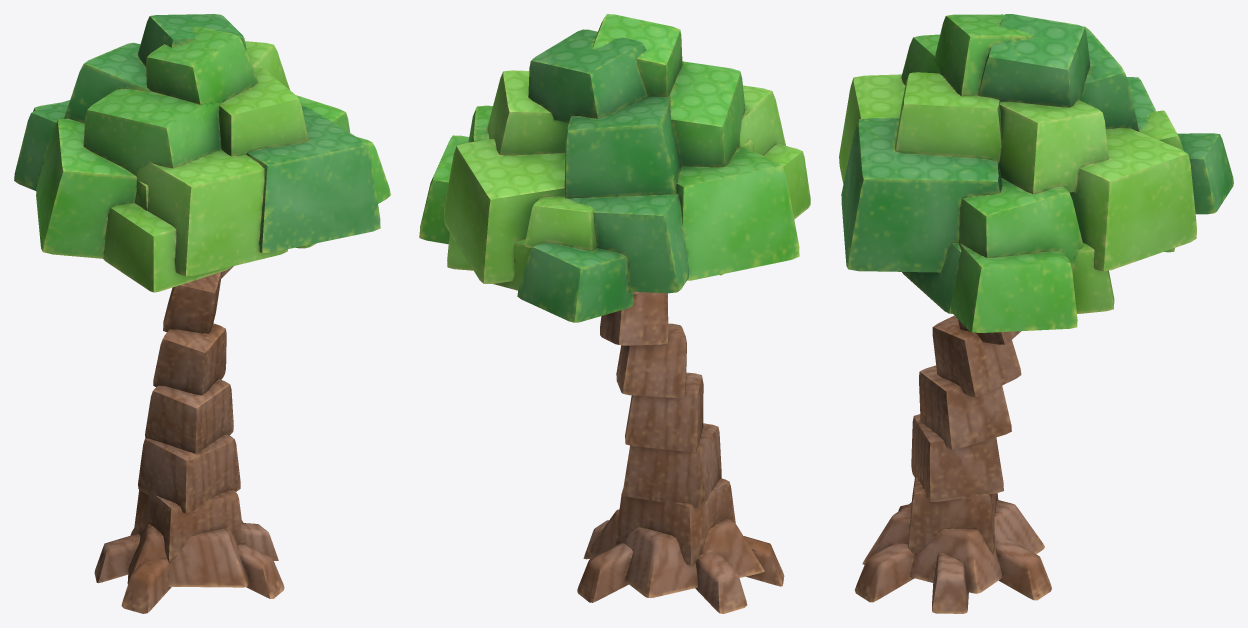
The model's file is ArbreMajestueux_A.fbx.
3 views of the same model, side by side, from view 1: azimuth 30°, elevation 25°; view 2: azimuth 150°, elevation 25°; view 3: azimuth 270°, elevation 25° (orthographic). The views are drawn at different scales.
Parts seen in each view (by area): view 1: ArbreMajestueux_A; view 2: ArbreMajestueux_A; view 3: ArbreMajestueux_A.
Part boxes in pixels (bbox=[...]): ArbreMajestueux_A: bbox=[14, 14, 390, 613]; ArbreMajestueux_A: bbox=[419, 14, 810, 613]; ArbreMajestueux_A: bbox=[839, 14, 1233, 613].
Bounding box in the file's own units: 1473 × 2147 × 1357.
1 material, 1 textured.
